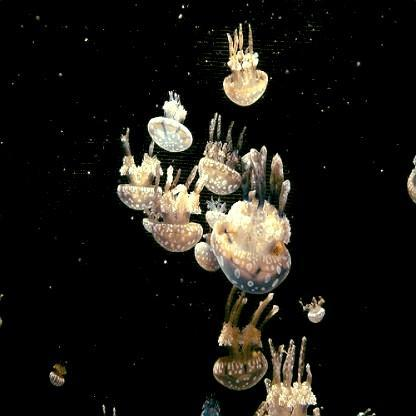LightHouse: (217, 151, 292, 293), (214, 289, 278, 392), (252, 338, 320, 414), (156, 162, 204, 251), (223, 21, 271, 105), (116, 133, 163, 211), (198, 118, 244, 195), (150, 90, 195, 156), (195, 232, 229, 270), (204, 197, 229, 231), (299, 294, 329, 322), (142, 207, 166, 237), (48, 356, 68, 388), (406, 149, 416, 205), (202, 392, 222, 414)
